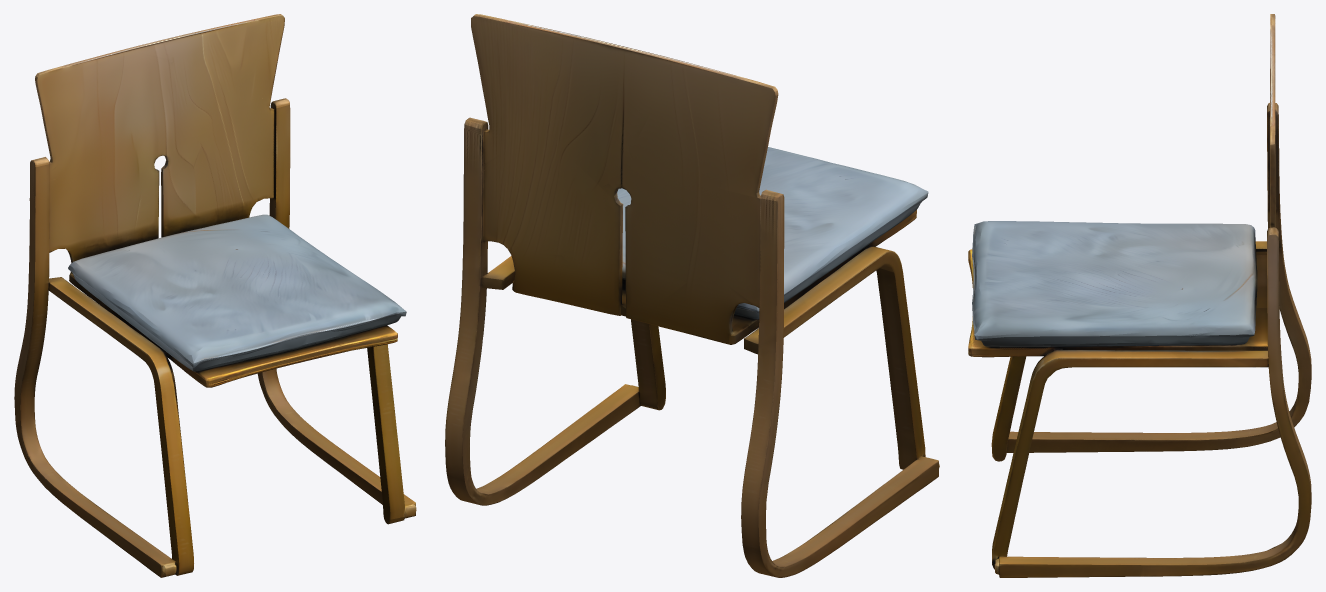
The model's file is base_basic_woodchair.glb.
3 renders of one model, left to right at view 1: azimuth 30°, elevation 25°; view 2: azimuth 150°, elevation 25°; view 3: azimuth 270°, elevation 25°, orthographic. The views are drawn at different scales.
Parts seen in each view (by area): view 1: model; view 2: model; view 3: model.
Part boxes in pixels (x1,y1,x2,y2): model: [14, 14, 416, 577]; model: [445, 14, 939, 577]; model: [968, 14, 1311, 577].
Bounding box in the file's own units: 1.13 × 1.74 × 1.24.
Materials: 2 (2 with a texture image).
